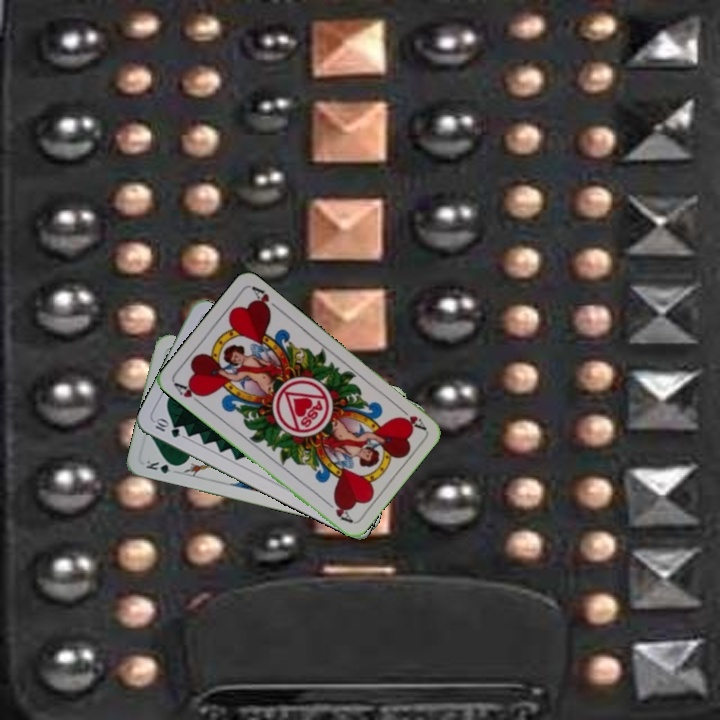G10: (150, 414, 183, 440)
GK: (142, 456, 182, 476)
HA: (170, 379, 207, 408), (394, 402, 428, 433)
